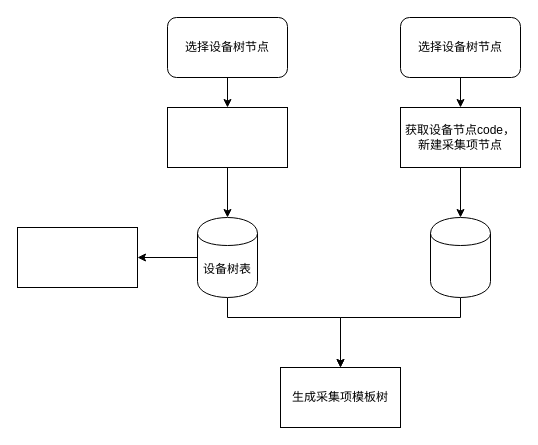
Some shapes in this 538 by 445 pixel diagram are drawn without their labels. The centre of each missing label's shape, as x and y in pixels:
生成设备模板树: (77,257)
获取上级节点id，新建子级节点: (227,137)
采集项表: (460,257)
